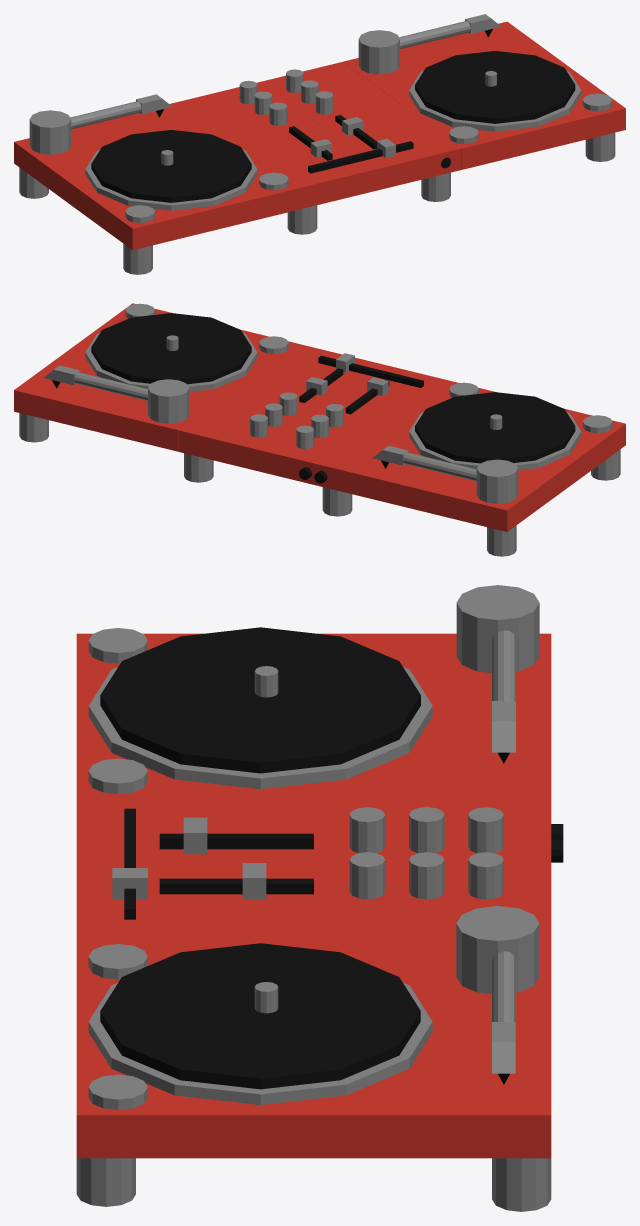
3 views of the same model, one above another, from view 1: azimuth 30°, elevation 25°; view 2: azimuth 150°, elevation 25°; view 3: azimuth 270°, elevation 25° (orthographic). The views are drawn at different scales.
Visible parts, largest first — view 1: node_MeshObject-1546937344-PolyPaper21, node_MeshObject711376896-PolyPaper8, node_MeshObject1283456000-PolyPaper8; view 2: node_MeshObject-1546937344-PolyPaper21, node_MeshObject711376896-PolyPaper8, node_MeshObject1283456000-PolyPaper8; view 3: node_MeshObject711376896-PolyPaper8, node_MeshObject-1546937344-PolyPaper21, node_MeshObject1283456000-PolyPaper8.
Boxes of the visible parts, bbox=[...] form: node_MeshObject-1546937344-PolyPaper21: bbox=[14, 94, 584, 274]; node_MeshObject711376896-PolyPaper8: bbox=[179, 30, 625, 179]; node_MeshObject1283456000-PolyPaper8: bbox=[125, 14, 518, 222]; node_MeshObject-1546937344-PolyPaper21: bbox=[250, 343, 625, 556]; node_MeshObject711376896-PolyPaper8: bbox=[26, 303, 413, 516]; node_MeshObject1283456000-PolyPaper8: bbox=[14, 333, 612, 483]; node_MeshObject711376896-PolyPaper8: bbox=[76, 714, 551, 1206]; node_MeshObject-1546937344-PolyPaper21: bbox=[76, 585, 551, 1074]; node_MeshObject1283456000-PolyPaper8: bbox=[76, 628, 563, 1211].
Bounding box in the file's own units: 0.96 × 0.1401 × 0.4101.
